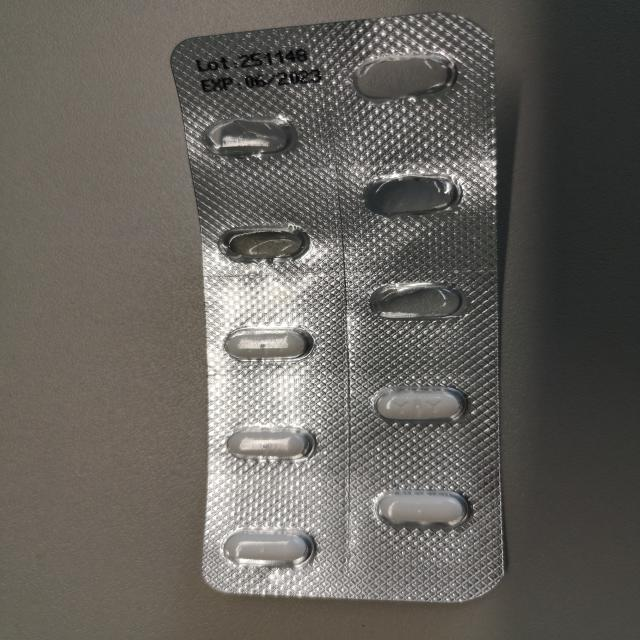Empty: (346, 48, 461, 104), (360, 279, 479, 327), (356, 168, 467, 219), (212, 220, 322, 266), (198, 114, 306, 160)
Pill: (366, 482, 474, 532), (216, 525, 322, 571), (366, 383, 474, 426), (220, 422, 324, 466), (218, 324, 320, 366)
